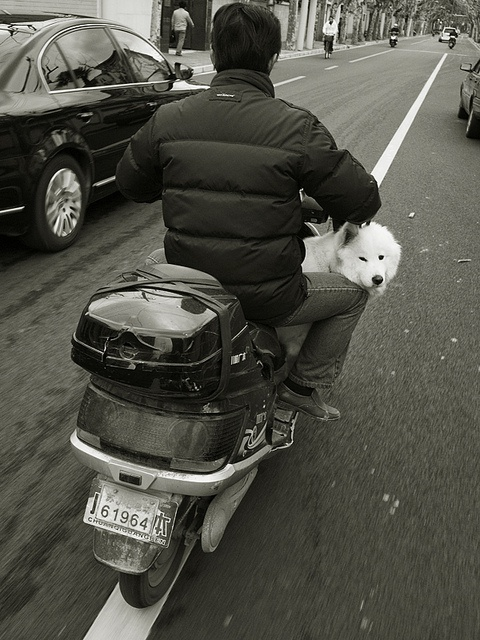non-vehicle: (69, 184, 381, 608), (389, 31, 399, 47), (448, 34, 456, 49)
